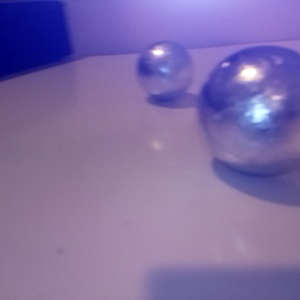alive_ball: (197, 46, 300, 177), (136, 41, 194, 99)
